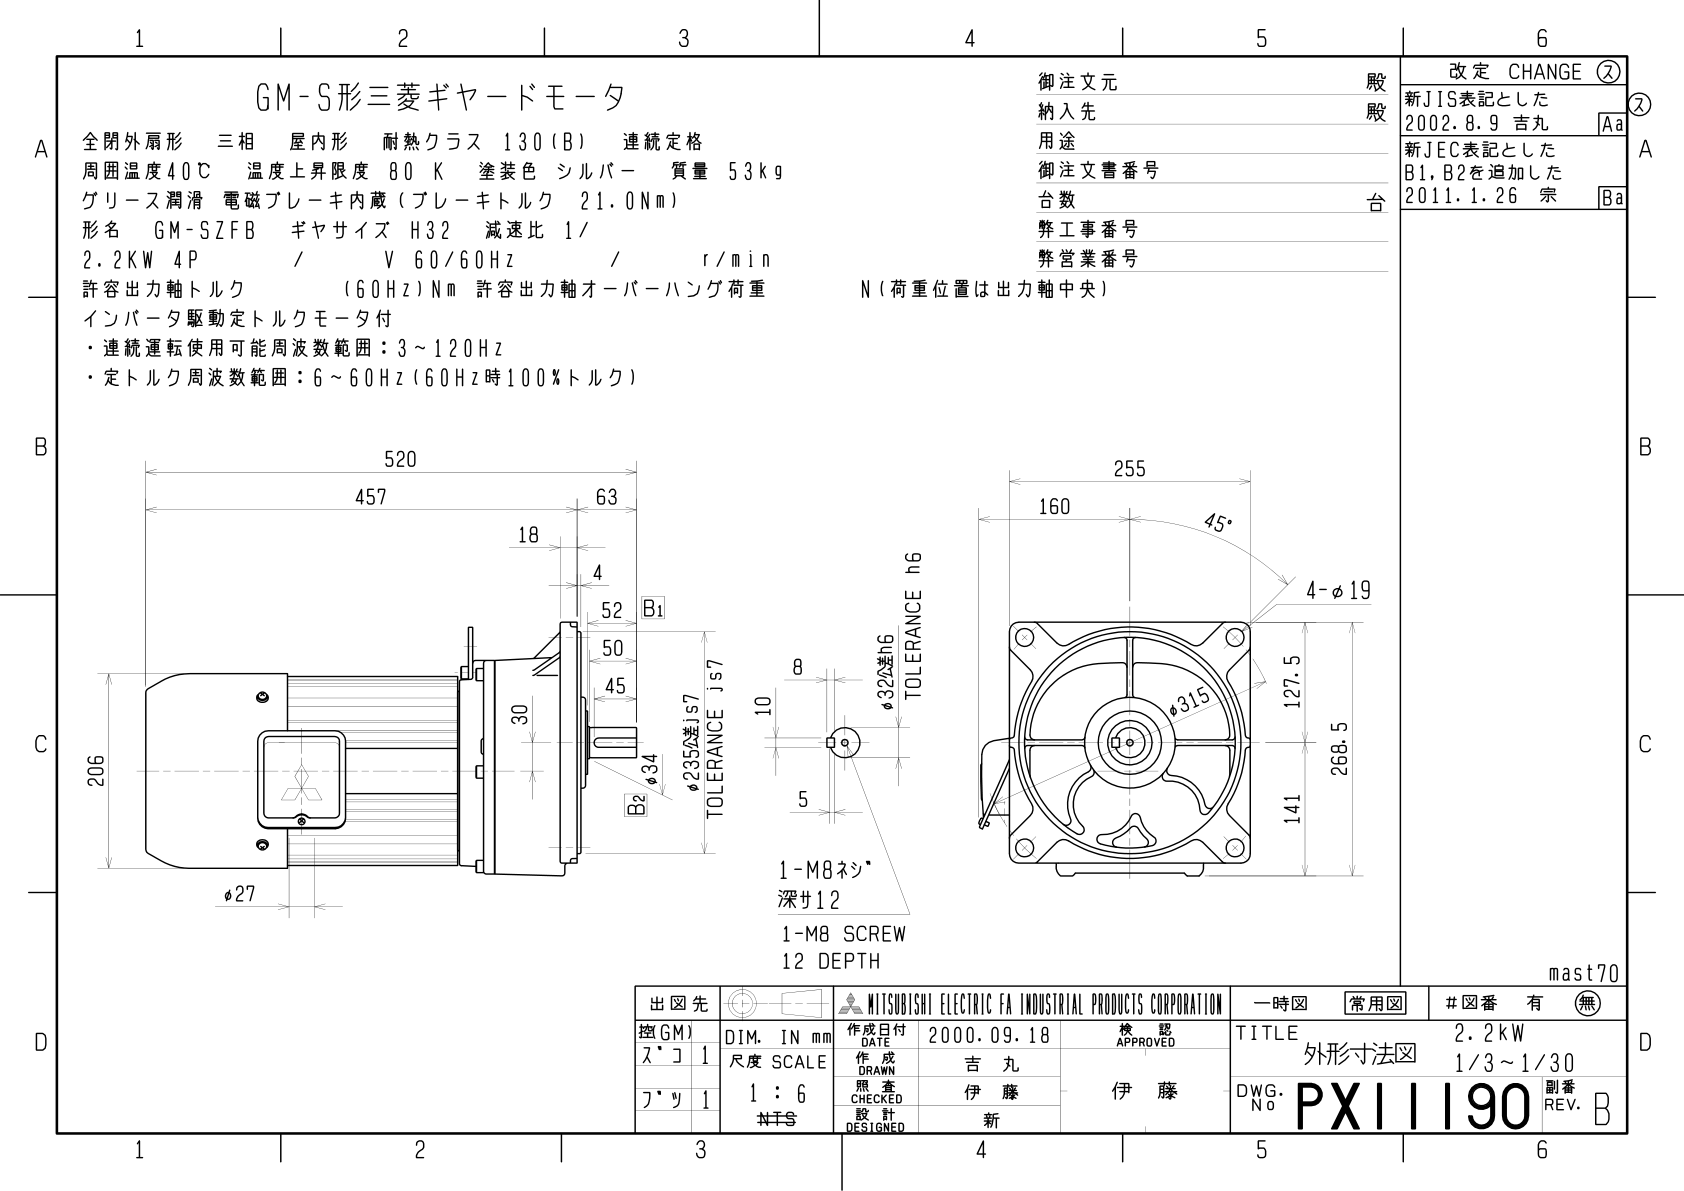GM_S_インバタ屋内＿三相_フランジ: (71, 418, 1392, 974)
